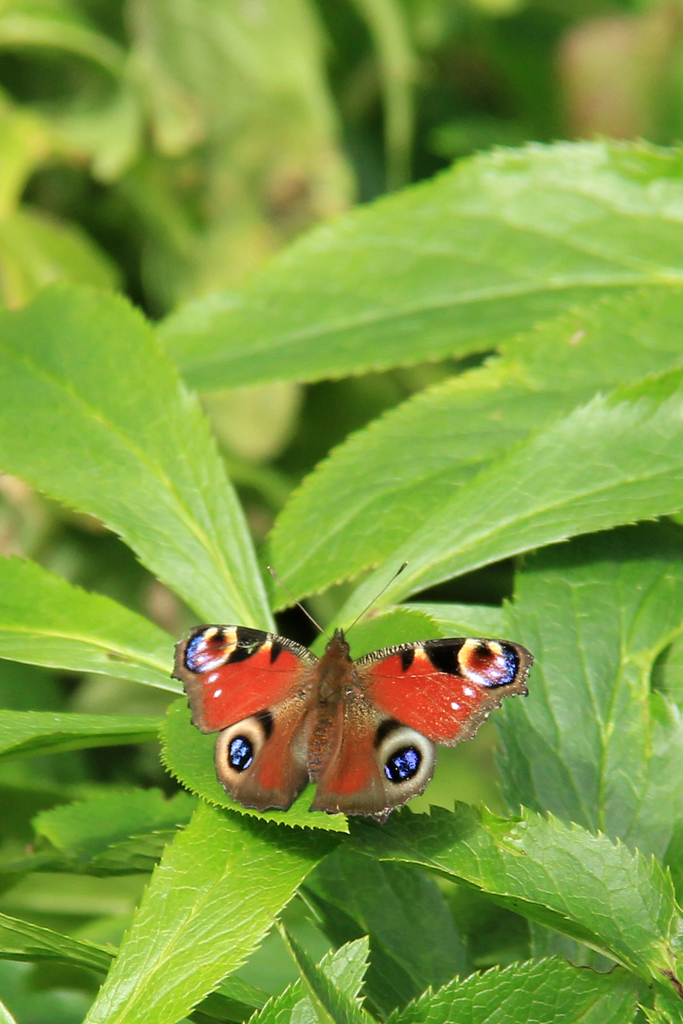Butterfly: (172, 616, 537, 829)
